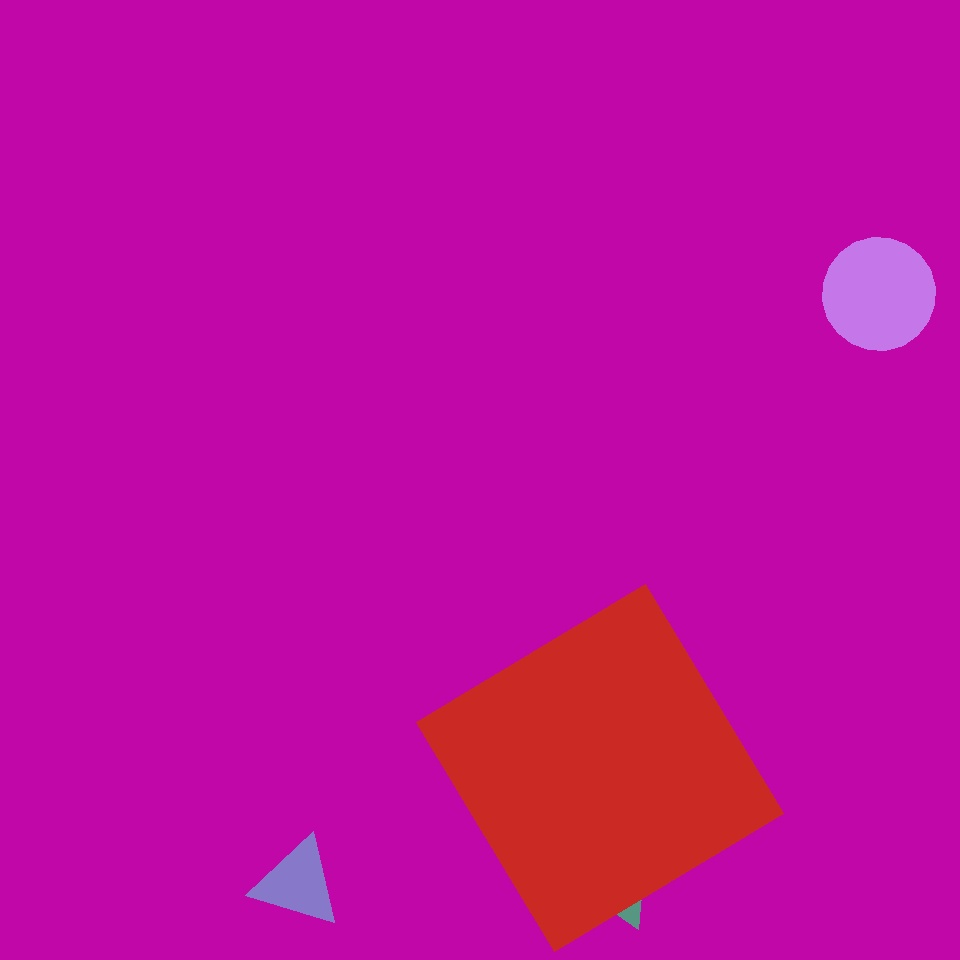circle: (534, 776, 670, 926), (253, 838, 343, 928)
square: (416, 584, 784, 952)
triangle: (822, 238, 936, 350)
